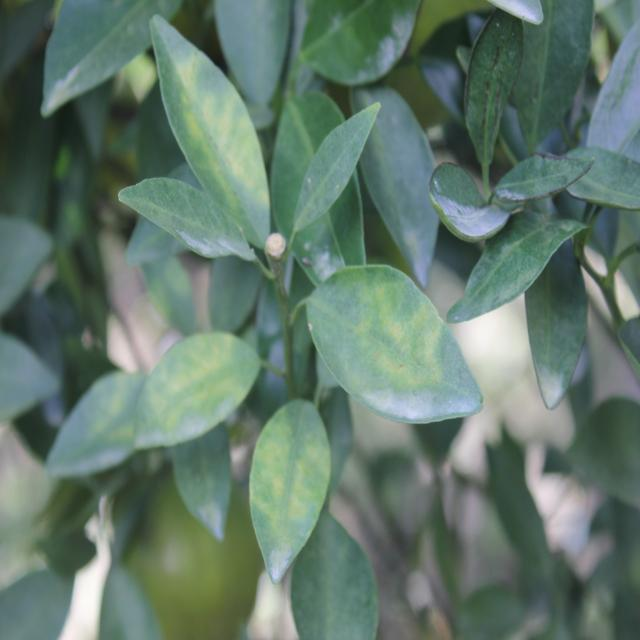blackspot: (182, 72, 245, 192), (153, 192, 234, 261)
